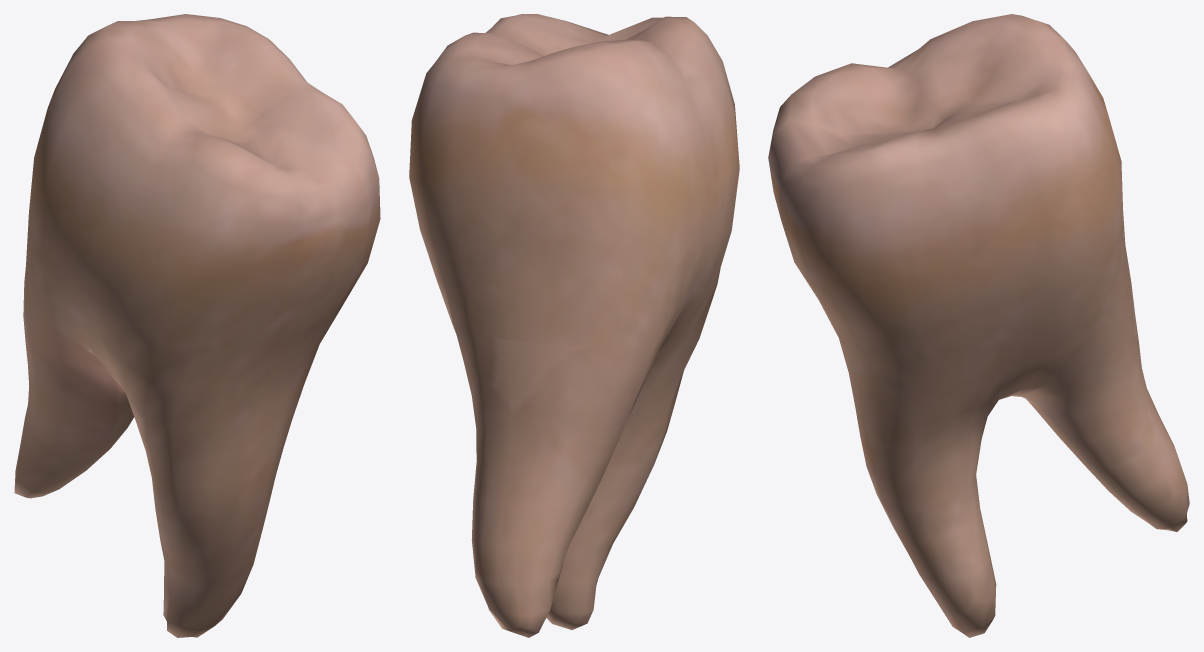
3 renders of one model, left to right at view 1: azimuth 30°, elevation 25°; view 2: azimuth 150°, elevation 25°; view 3: azimuth 270°, elevation 25°, orthographic. The views are drawn at different scales.
Visible parts, largest first — view 1: t_47; view 2: t_47; view 3: t_47.
Part boxes in pixels (box(x1,y1,x2,y2)): t_47: box(14, 14, 380, 637); t_47: box(409, 14, 739, 637); t_47: box(768, 14, 1189, 637).
Bounding box in the file's own units: 0.0891 × 0.1921 × 0.1248.
1 material, 1 textured.
